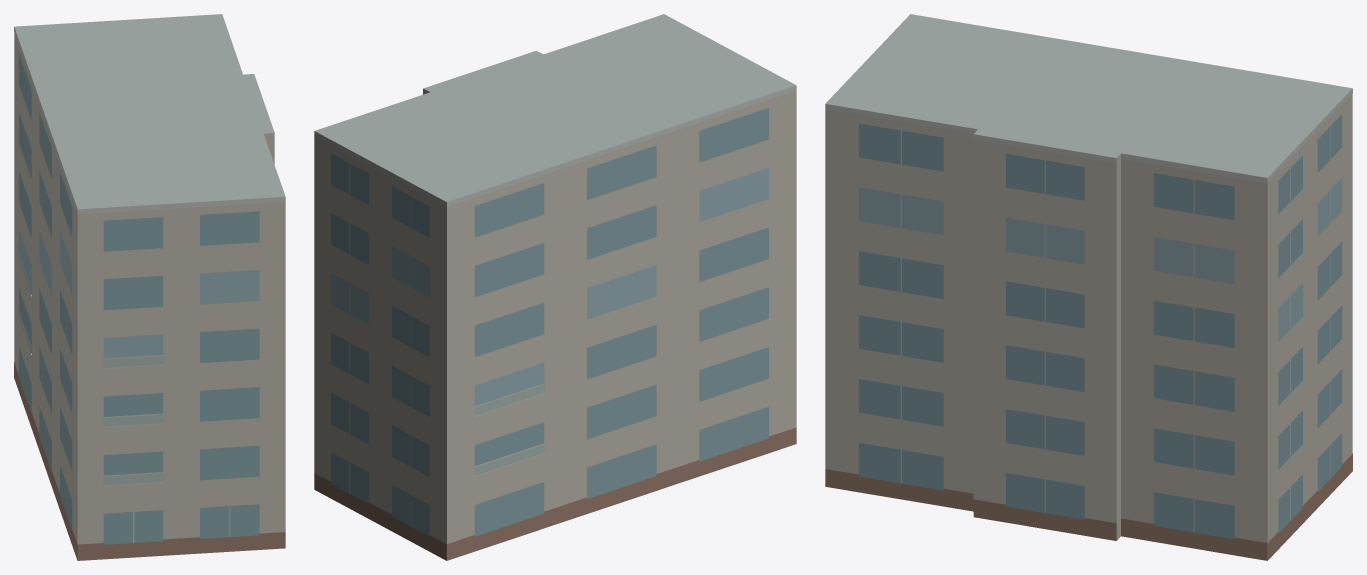
The model's file is survey-upis-32652836.glb.
3 renders of one model, left to right at view 1: azimuth 30°, elevation 25°; view 2: azimuth 150°, elevation 25°; view 3: azimuth 270°, elevation 25°, orthographic. The views are drawn at different scales.
Parts seen in each view (by area): view 1: survey-upis-32652836.tmp; view 2: survey-upis-32652836.tmp; view 3: survey-upis-32652836.tmp.
Part boxes in pixels (x1=…): survey-upis-32652836.tmp: x1=14, y1=14, x2=285, y2=560; survey-upis-32652836.tmp: x1=314, y1=14, x2=796, y2=560; survey-upis-32652836.tmp: x1=825, y1=14, x2=1352, y2=560.
Bounding box in the file's own units: 15.81 × 17.2 × 21.49.
